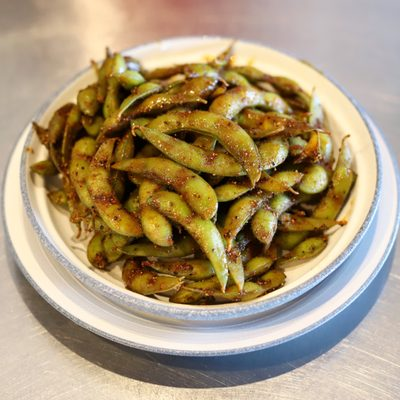sushi: (3, 20, 396, 351)
